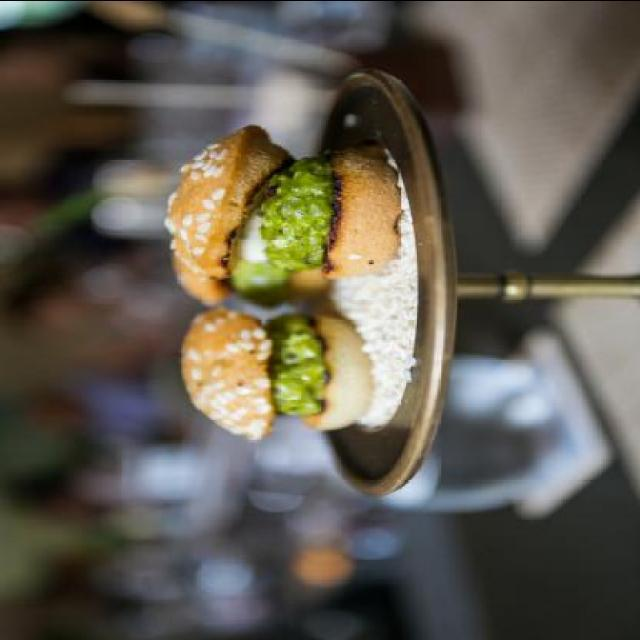Hamburger: (168, 124, 398, 278), (182, 306, 374, 442), (173, 258, 327, 306)
